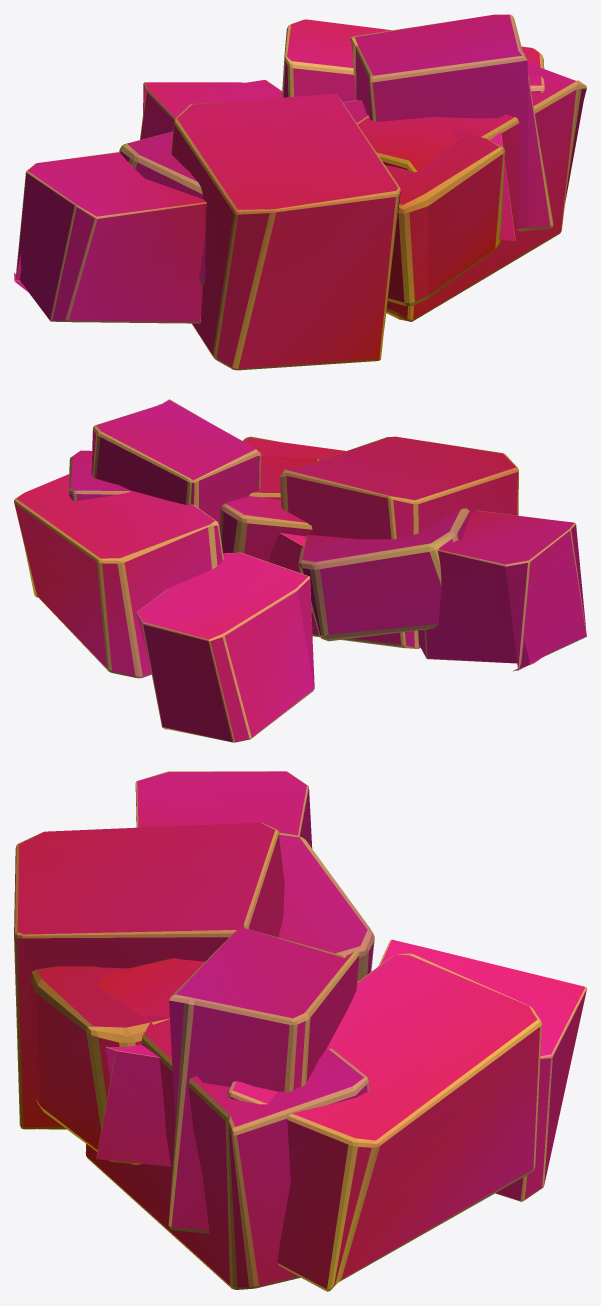
Rendered from SM_Rubble.fbx.
3 renders of one model, top to bottom at view 1: azimuth 30°, elevation 25°; view 2: azimuth 150°, elevation 25°; view 3: azimuth 270°, elevation 25°, orthographic. The views are drawn at different scales.
Visible parts, largest first — view 1: SM_Rubble; view 2: SM_Rubble; view 3: SM_Rubble.
Boxes of the visible parts, left/top/right/bottom form: SM_Rubble: left=14, top=14, right=586, bottom=370; SM_Rubble: left=14, top=399, right=586, bottom=742; SM_Rubble: left=14, top=771, right=586, bottom=1291.
Bounding box in the file's own units: 93.38 × 131 × 52.08.
